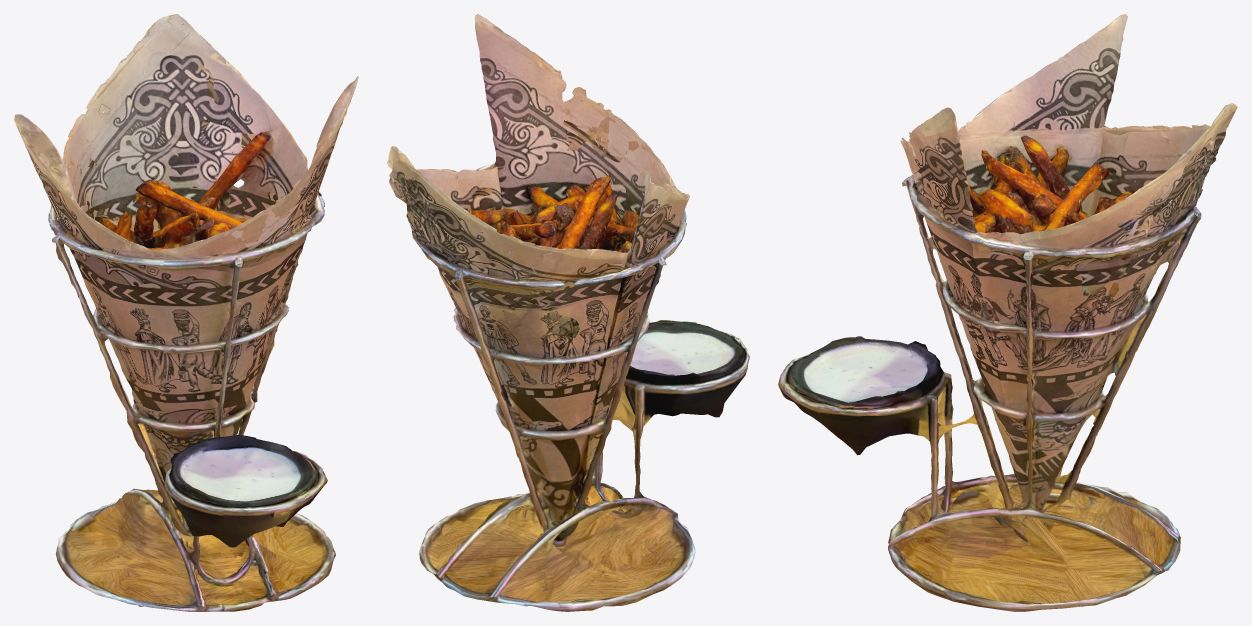
The model's file is Camotitos.glb.
3 renders of one model, left to right at view 1: azimuth 30°, elevation 25°; view 2: azimuth 150°, elevation 25°; view 3: azimuth 270°, elevation 25°, orthographic. The views are drawn at different scales.
Parts seen in each view (by area): view 1: Camotitos; view 2: Camotitos; view 3: Camotitos.
Part boxes in pixels (bbox=[...]): Camotitos: bbox=[14, 14, 358, 611]; Camotitos: bbox=[387, 14, 749, 611]; Camotitos: bbox=[778, 14, 1237, 611].
Size of the model in its own units: 52.24 by 94.16 by 76.18.
1 material, 1 textured.
